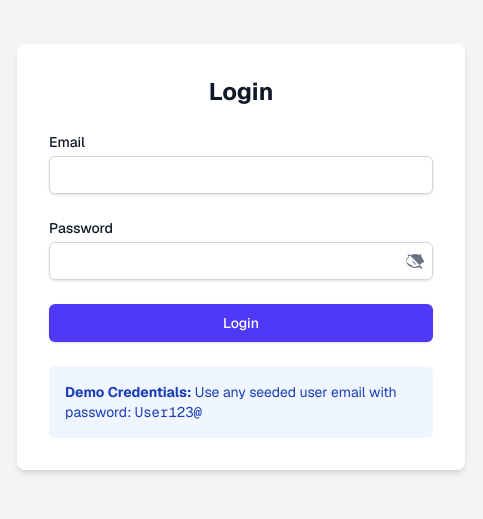
Test: LoginPage - Consolidated Tests › Form Validation › should show validation error for short password
Type "12345" into the password field labelled "Password" at (241, 261), box [49,242,433,280]
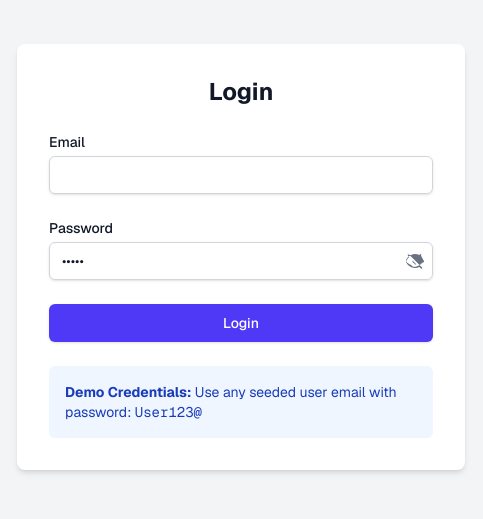
Click the button "Login" at (241, 323), box [49,304,433,342]
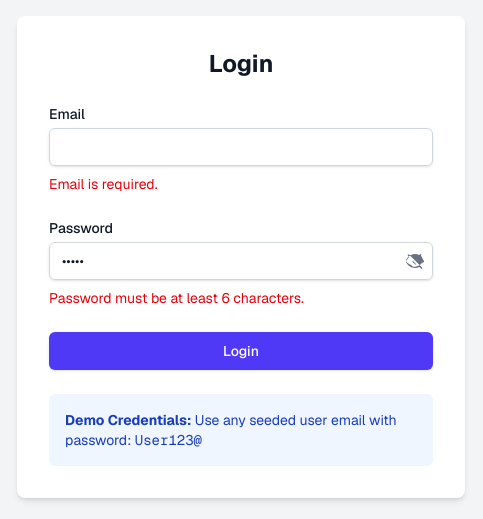
Expected: the text "Password must be at least 6 characters." is shown, [49,289,304,307]
